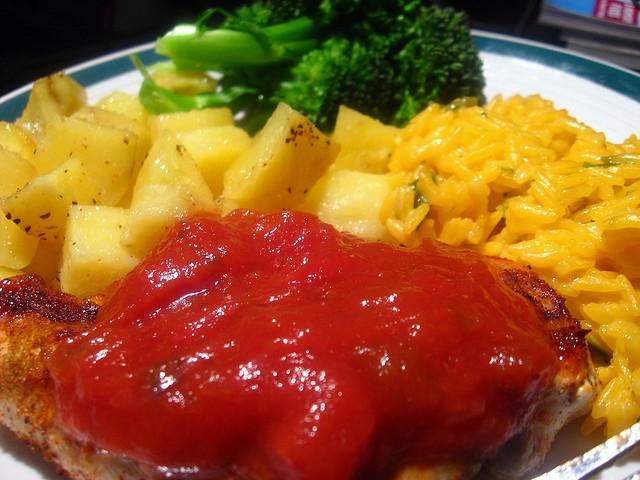broccoli: (158, 0, 440, 90), (380, 4, 488, 130), (268, 34, 396, 132)
potato: (220, 102, 342, 218), (0, 158, 111, 253), (30, 115, 136, 206), (56, 206, 152, 300), (70, 106, 152, 209), (316, 169, 402, 246), (119, 185, 205, 254), (14, 70, 88, 147), (174, 125, 252, 198), (333, 104, 405, 174), (94, 90, 152, 148), (148, 107, 234, 146), (0, 209, 40, 269), (0, 144, 39, 198), (20, 240, 58, 288), (152, 70, 216, 94), (1, 120, 36, 163)
